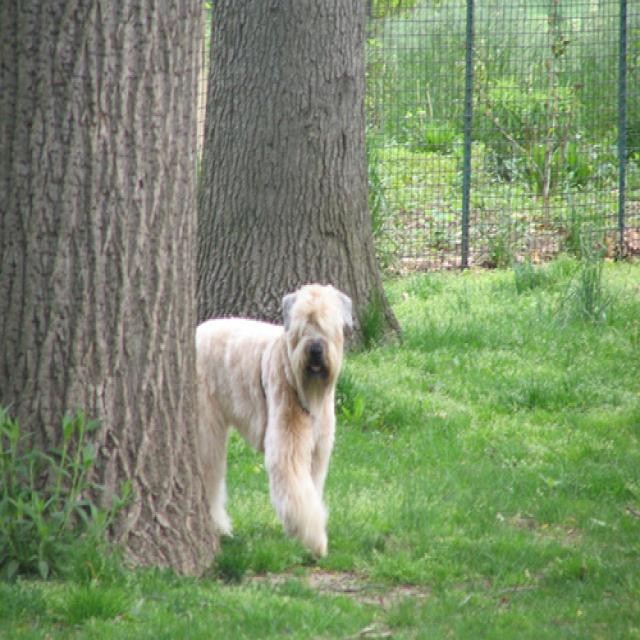dog-wheaten_terrier: (182, 273, 357, 567)
